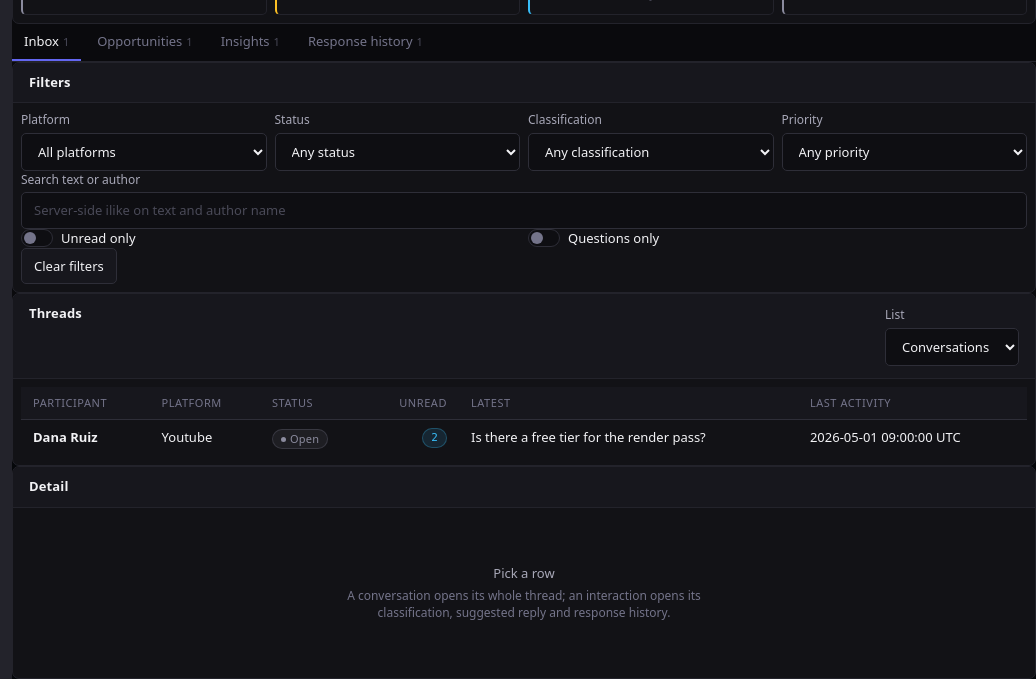
Scenario: interaction detail › shows the thread of a selected conversation instead of an interaction
(page scrolled)
Click the text "Dana Ruiz": [65, 437] box [33,428,98,446]
(page scrolled)
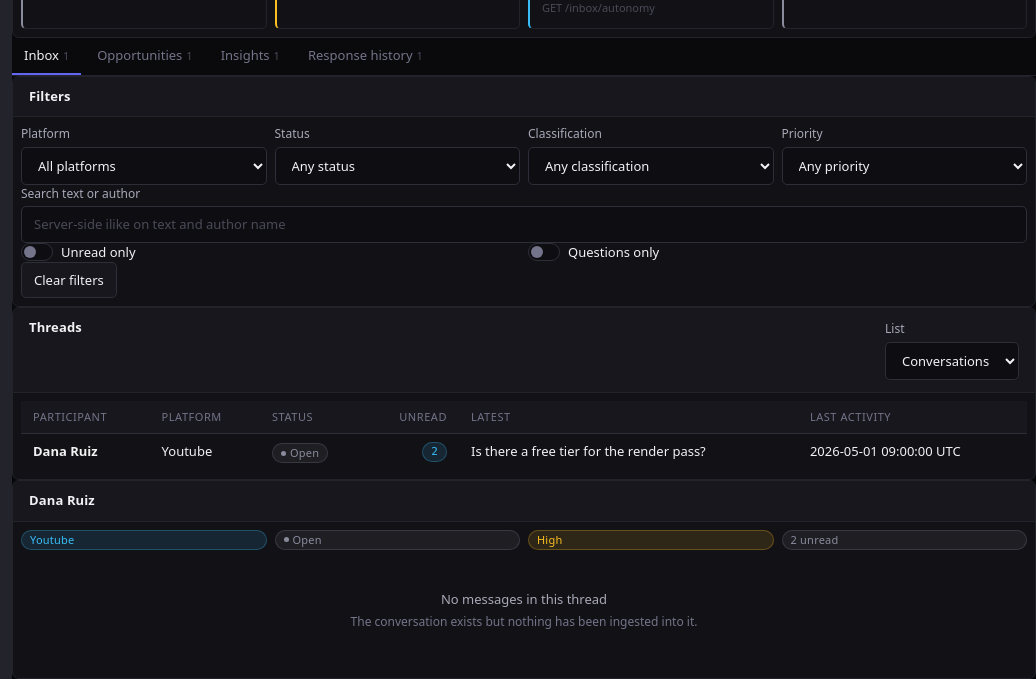
Expected: the text "No messages in this thread" is shown, [441,590,607,608]
